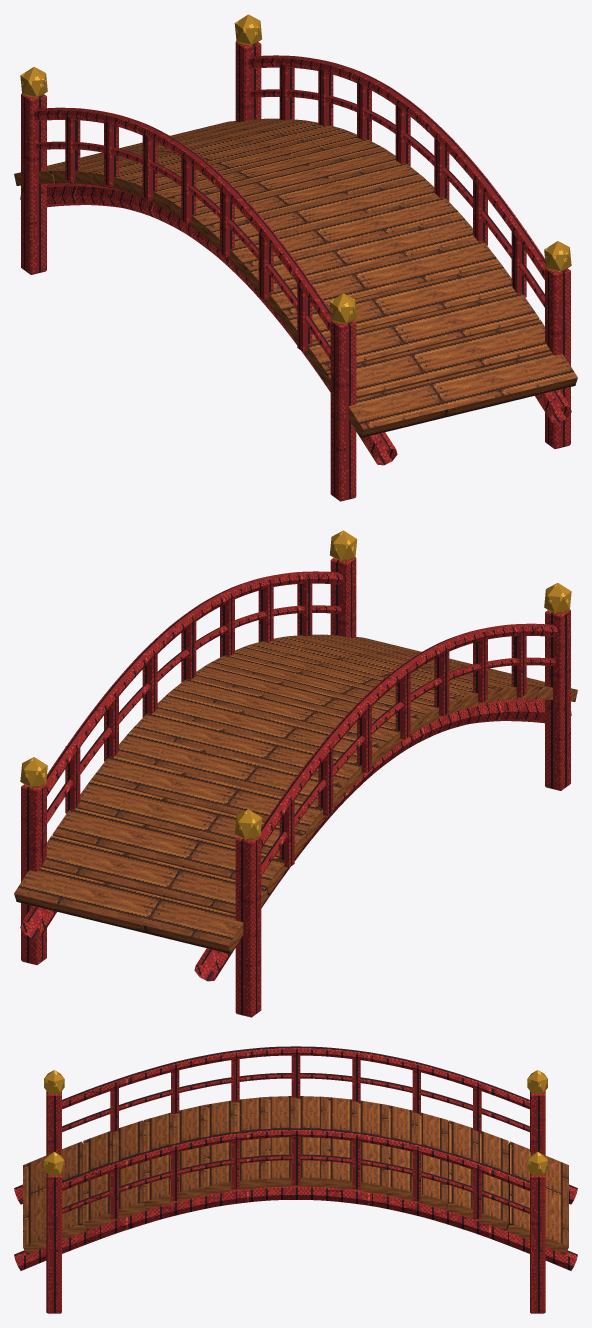
The model's file is iris_bridge.glb.
The picture shows the model from 3 angles, top to bottom: view 1: azimuth 30°, elevation 25°; view 2: azimuth 150°, elevation 25°; view 3: azimuth 270°, elevation 25°; orthographic projection. The views are drawn at different scales.
Visible parts, largest first — view 1: Bridge; view 2: Bridge; view 3: Bridge.
Part boxes in pixels (x1,y1,x2,y2): Bridge: (14,14,577,501); Bridge: (14,530,577,1017); Bridge: (14,1046,577,1313).
Size of the model in its own units: 3.56 by 3.33 by 9.33.
Materials: 3 (3 with a texture image).
